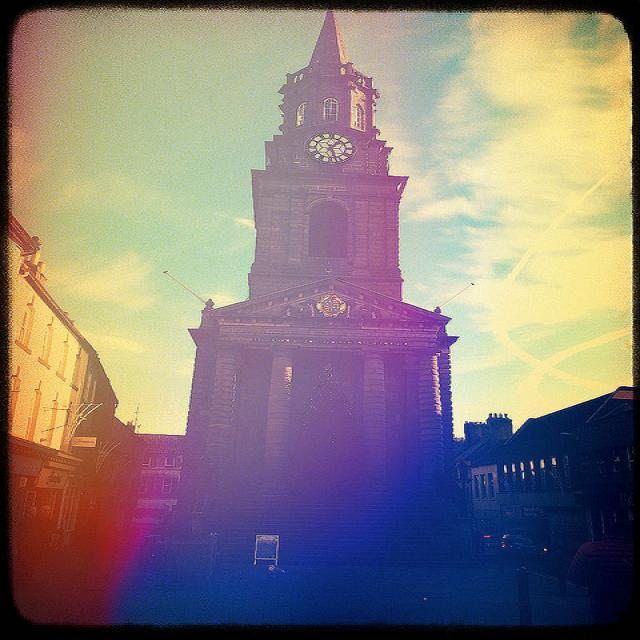Vehicle: (480, 535, 539, 559)
